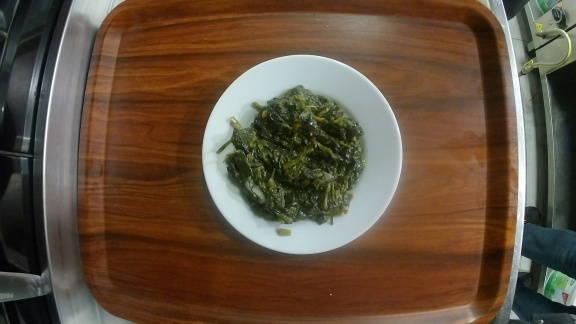ispanak: (198, 53, 406, 257)
